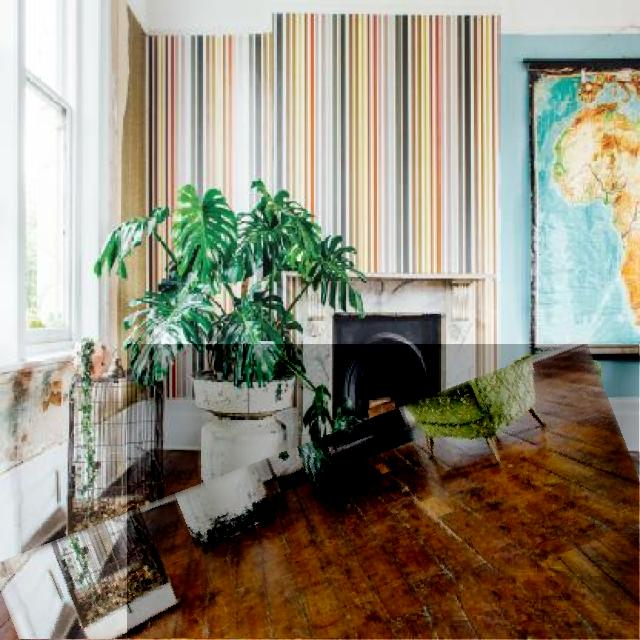floor: (129, 345, 640, 639), (62, 627, 78, 640)
